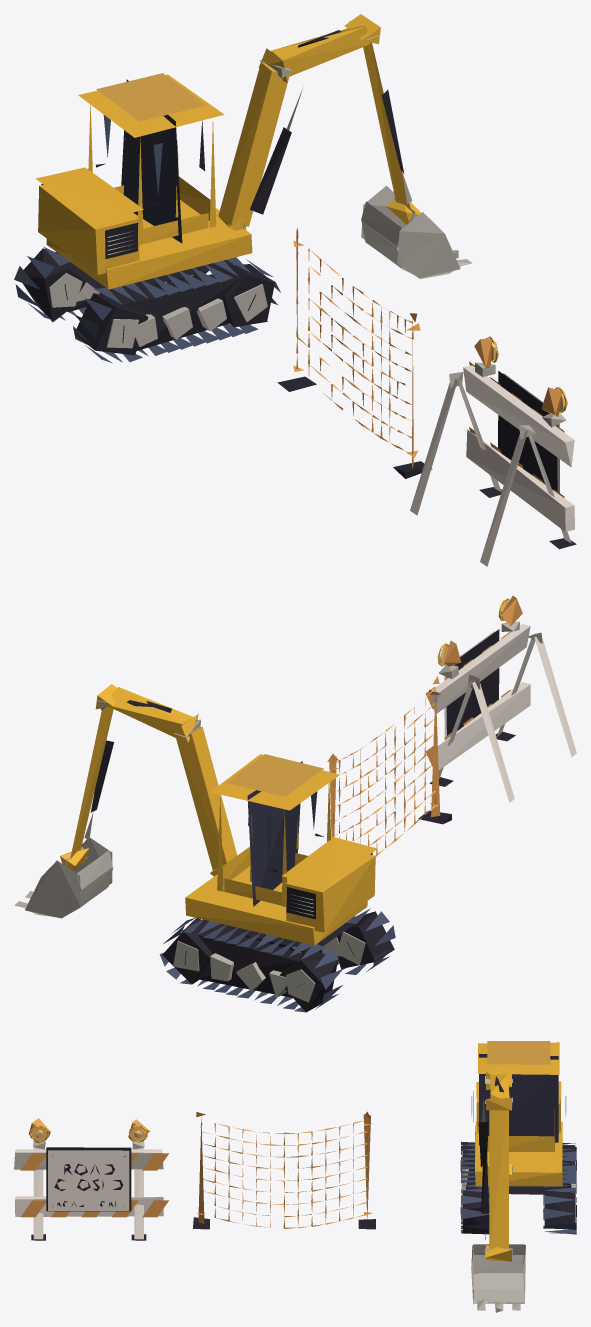
3 renders of one model, top to bottom at view 1: azimuth 30°, elevation 25°; view 2: azimuth 150°, elevation 25°; view 3: azimuth 270°, elevation 25°, orthographic. The views are drawn at different scales.
Parts seen in each view (by area): view 1: excavator, road_closed, mesh_fence; view 2: excavator, road_closed, mesh_fence; view 3: excavator, road_closed, mesh_fence.
Boxes of the visible parts, bbox=[...] form: excavator: bbox=[14, 14, 472, 363]; road_closed: bbox=[410, 336, 576, 566]; mesh_fence: bbox=[277, 228, 432, 478]; excavator: bbox=[14, 684, 395, 1012]; road_closed: bbox=[425, 595, 576, 802]; mesh_fence: bbox=[327, 676, 451, 856]; excavator: bbox=[460, 1041, 576, 1312]; road_closed: bbox=[14, 1118, 168, 1240]; mesh_fence: bbox=[193, 1111, 375, 1229].
Size of the model in its own units: 4.24 by 2.71 by 7.4.
